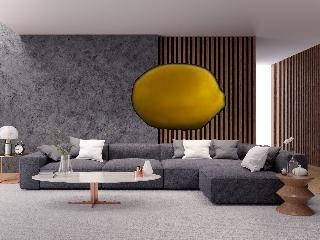lemon: (134, 65, 226, 130)
